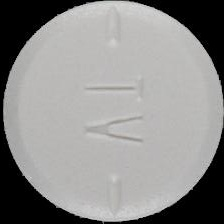0615-3542: (0, 0, 224, 224)
